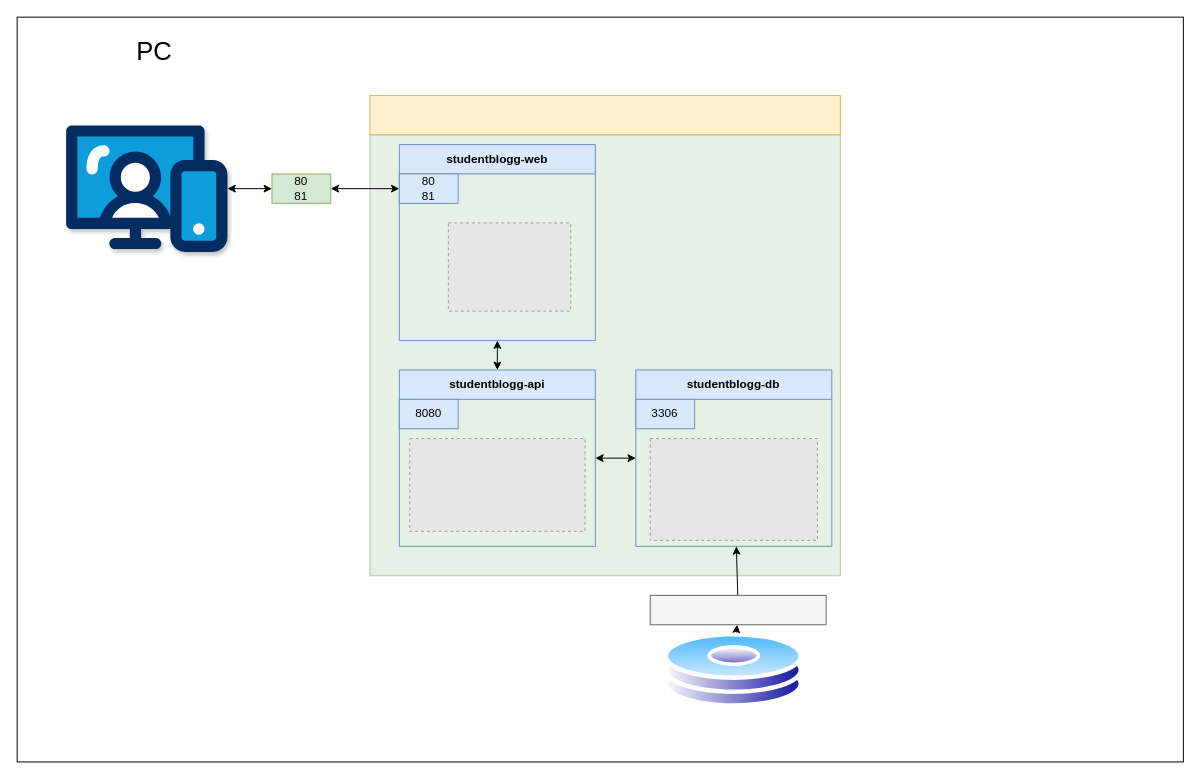
Some shapes in this 1201 by 779 pixel diagram are drawn without their labels. Grey dashed boxes stand in for pictures. Here are the shapes that lost their labels. From the top down, the centre of each, then its label:
(x=604, y=115): Docker Network: studentblogg-net
(x=147, y=190): HTTP
(x=737, y=609): -v < hostpath >:/var/lib/mysql
